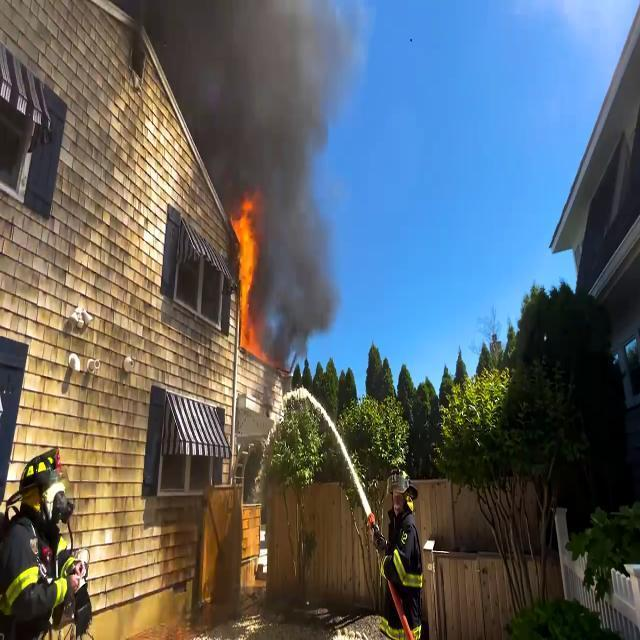Fire: (236, 192, 266, 350)
Smoke: (154, 0, 344, 207), (263, 172, 344, 356)
